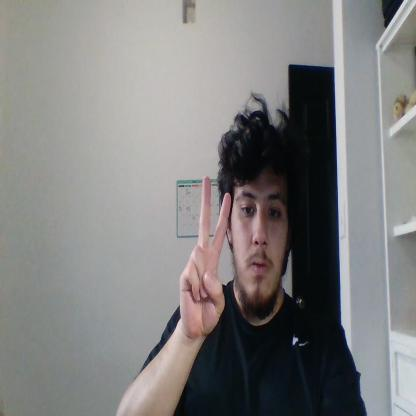V: (179, 176, 231, 337)
